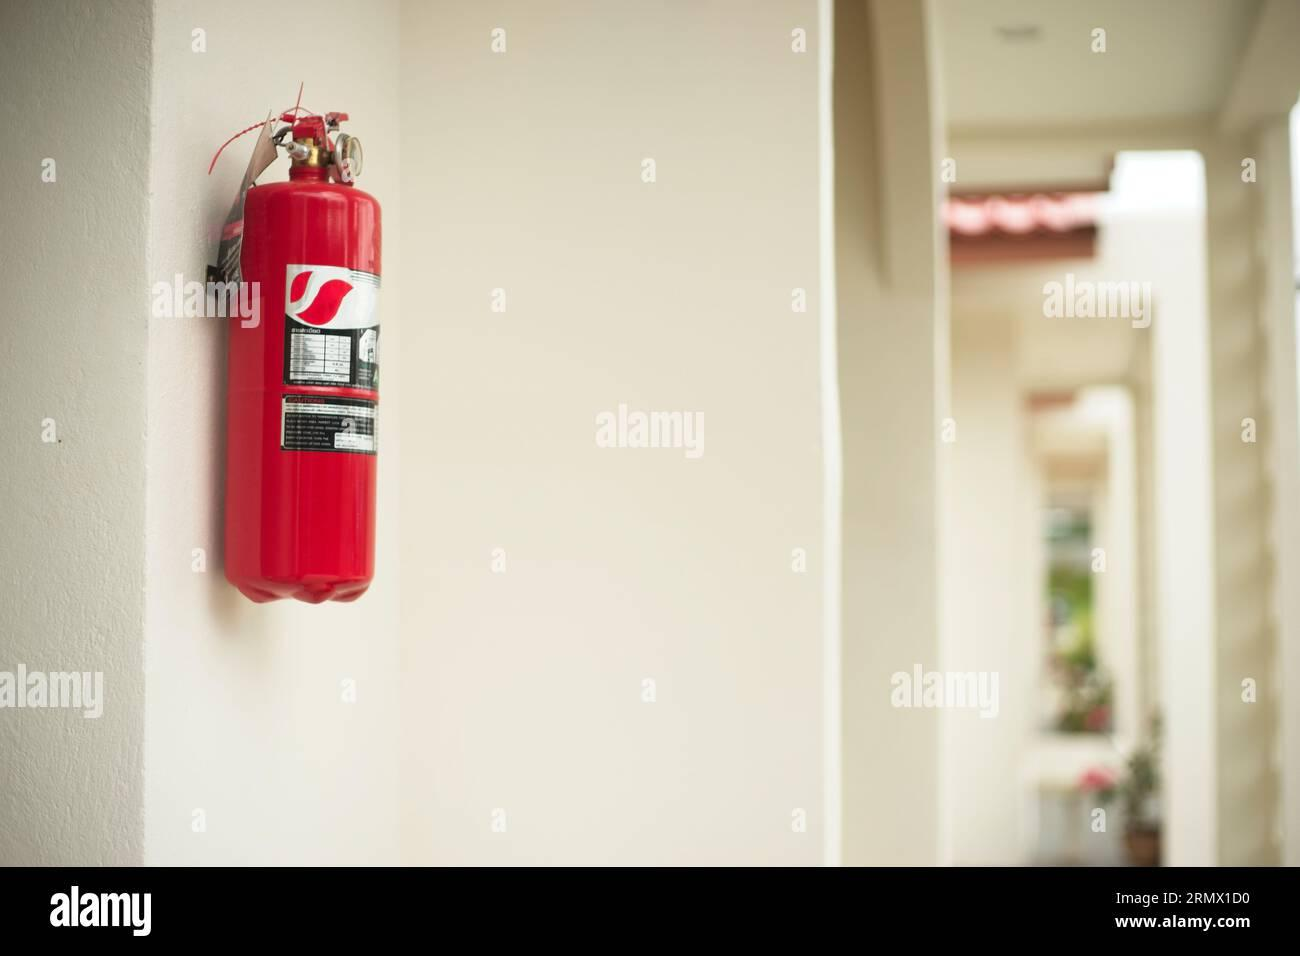wall-mounted: (187, 92, 426, 616)
